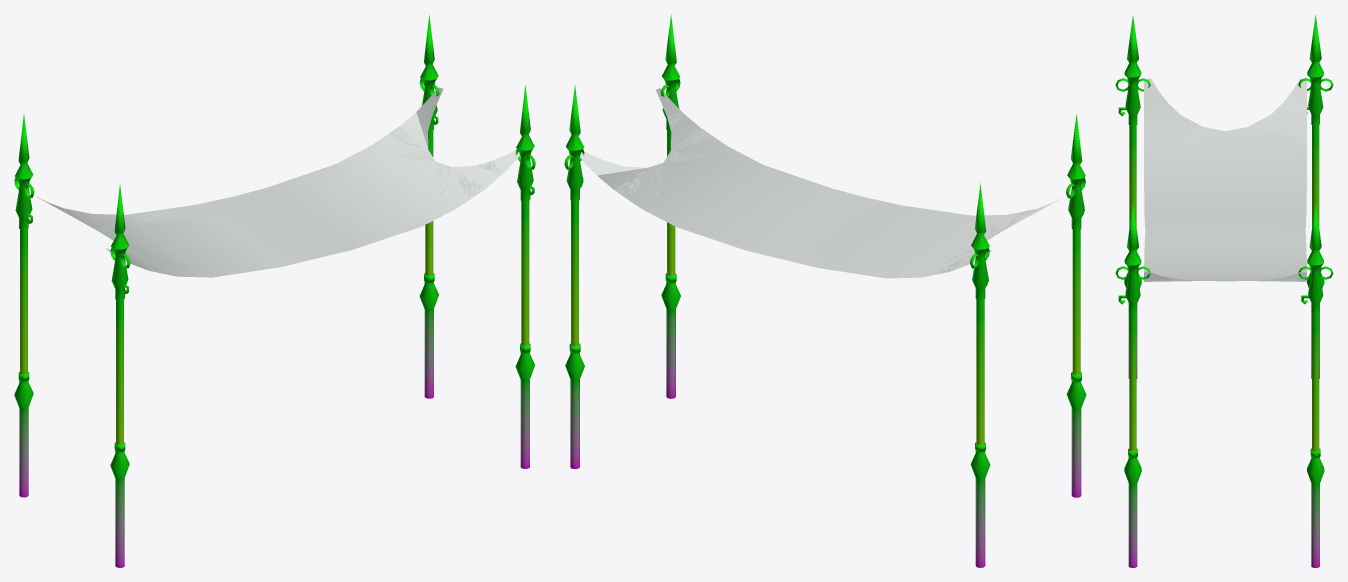
3 views of the same model, side by side, from view 1: azimuth 30°, elevation 25°; view 2: azimuth 150°, elevation 25°; view 3: azimuth 270°, elevation 25° (orthographic). The views are drawn at different scales.
Parts seen in each view (by area): view 1: G:\FFXIV-MapTools\exports\f1f2\bg\ffxiv\fst_f1\fld\f1f2\bgpa (×2); view 2: G:\FFXIV-MapTools\exports\f1f2\bg\ffxiv\fst_f1\fld\f1f2\bgpa (×2); view 3: G:\FFXIV-MapTools\exports\f1f2\bg\ffxiv\fst_f1\fld\f1f2\bgpa (×2).
Part boxes in pixels (<box>): G:\FFXIV-MapTools\exports\f1f2\bg\ffxiv\fst_f1\fld\f1f2\bgpa (×2): <box>14,15,535,567</box>; G:\FFXIV-MapTools\exports\f1f2\bg\ffxiv\fst_f1\fld\f1f2\bgpa (×2): <box>564,14,1086,567</box>; G:\FFXIV-MapTools\exports\f1f2\bg\ffxiv\fst_f1\fld\f1f2\bgpa (×2): <box>1115,15,1333,567</box>.
Size of the model in its own units: 7.02 by 6.1 by 3.31.
